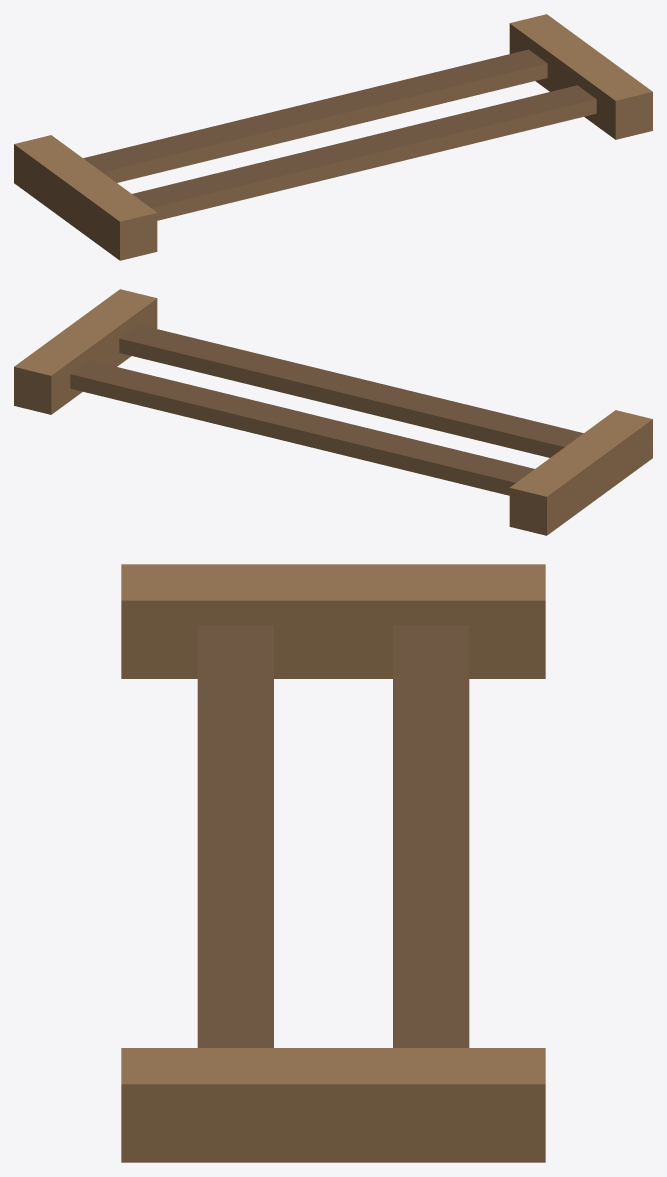
File: fence-rail.obj
The picture shows the model from 3 angles, top to bottom: view 1: azimuth 30°, elevation 25°; view 2: azimuth 150°, elevation 25°; view 3: azimuth 270°, elevation 25°; orthographic projection. The views are drawn at different scales.
Parts seen in each view (by area): view 1: fence-rail; view 2: fence-rail; view 3: fence-rail.
Boxes of the visible parts, x1,y1,x2,y2 form: fence-rail: [14, 14, 652, 260]; fence-rail: [14, 289, 652, 535]; fence-rail: [121, 564, 545, 1162].
Bounding box in the file's own units: 122 × 8.52 × 42.
